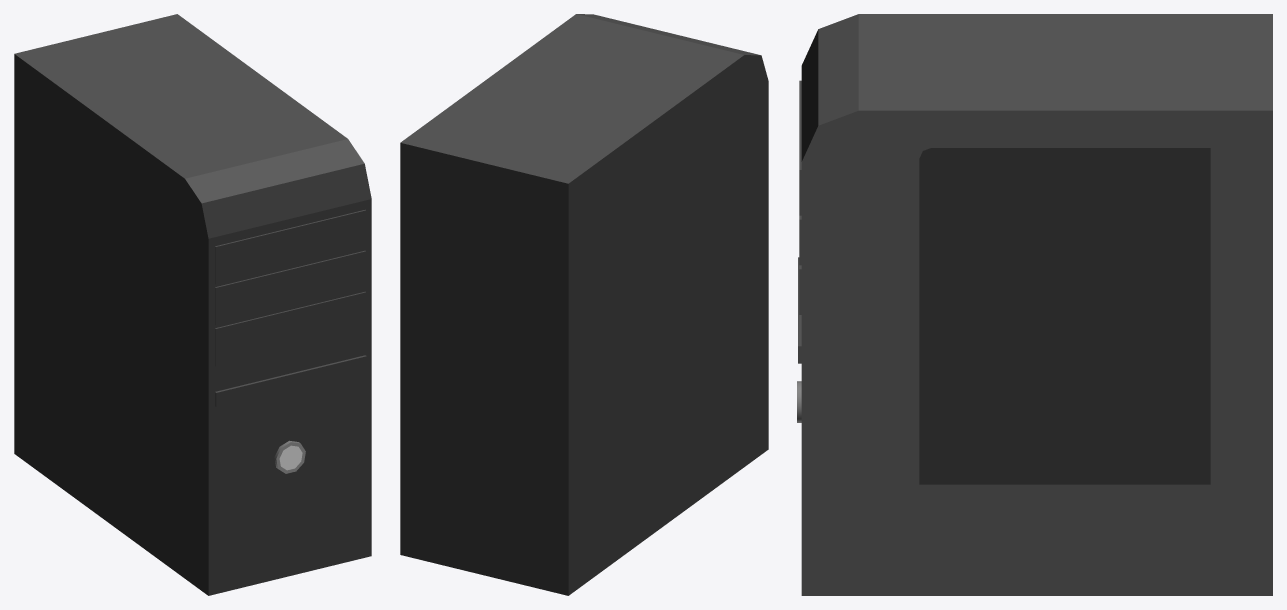
File: Computer_Case.fbx
3 renders of one model, left to right at view 1: azimuth 30°, elevation 25°; view 2: azimuth 150°, elevation 25°; view 3: azimuth 270°, elevation 25°, orthographic. The views are drawn at different scales.
Visible parts, largest first — view 1: Computer_Case; view 2: Computer_Case; view 3: Computer_Case.
Part boxes in pixels (x1,y1,x2,y2): Computer_Case: (14, 14, 371, 595); Computer_Case: (400, 14, 768, 595); Computer_Case: (797, 14, 1272, 595).
Bounding box in the file's own units: 17.67 × 41.39 × 36.78.
